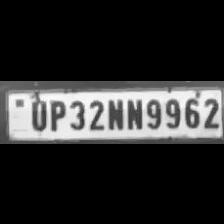2: (200, 94, 220, 128), (86, 96, 104, 130)
3: (65, 96, 84, 130)
6: (181, 94, 199, 128)
9: (162, 94, 180, 128), (144, 96, 162, 128)
N: (104, 96, 124, 130), (125, 96, 143, 130)
P: (47, 96, 66, 130)
U: (26, 96, 48, 130)
